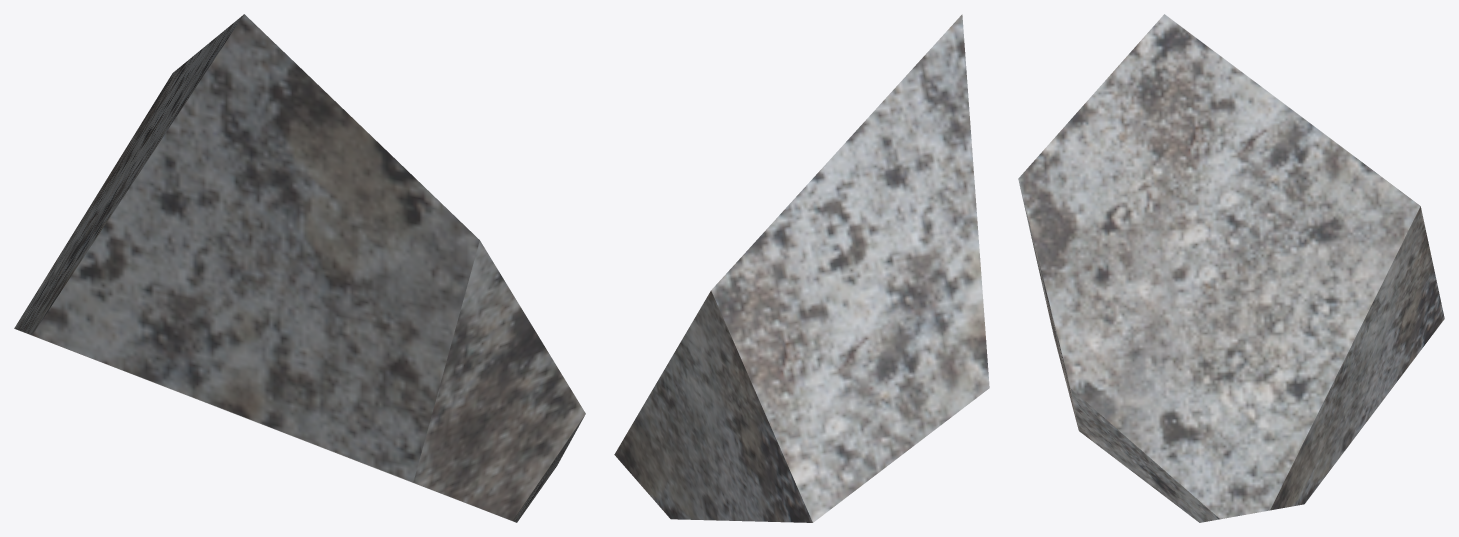
File: Asteroid_Large_001_02_003_03_007.fbx
3 views of the same model, side by side, from view 1: azimuth 30°, elevation 25°; view 2: azimuth 150°, elevation 25°; view 3: azimuth 270°, elevation 25° (orthographic). The views are drawn at different scales.
Parts seen in each view (by area): view 1: Asteroid_Large_001_02_003_03_007; view 2: Asteroid_Large_001_02_003_03_007; view 3: Asteroid_Large_001_02_003_03_007.
Part boxes in pixels (box(x1,y1,x2,y2)): Asteroid_Large_001_02_003_03_007: box(14, 14, 585, 522); Asteroid_Large_001_02_003_03_007: box(614, 14, 989, 522); Asteroid_Large_001_02_003_03_007: box(1018, 14, 1444, 522).
Bounding box in the file's own units: 6.7 × 8.07 × 7.61.
